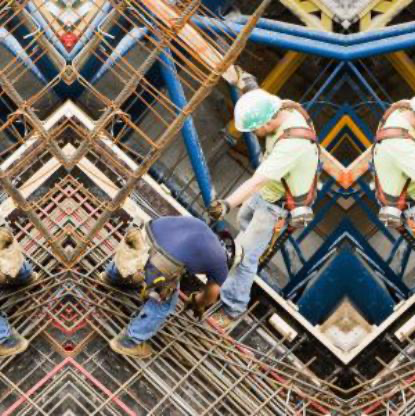helmet: (224, 87, 289, 145), (213, 226, 246, 273)
